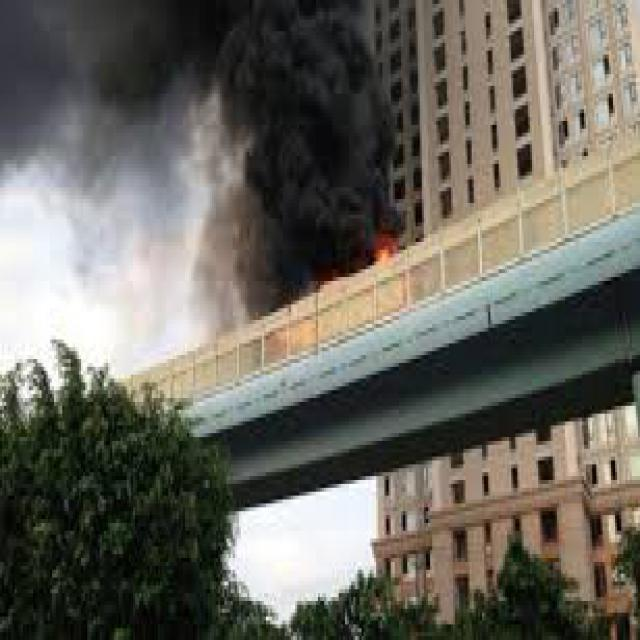smoke: (173, 4, 401, 328)
